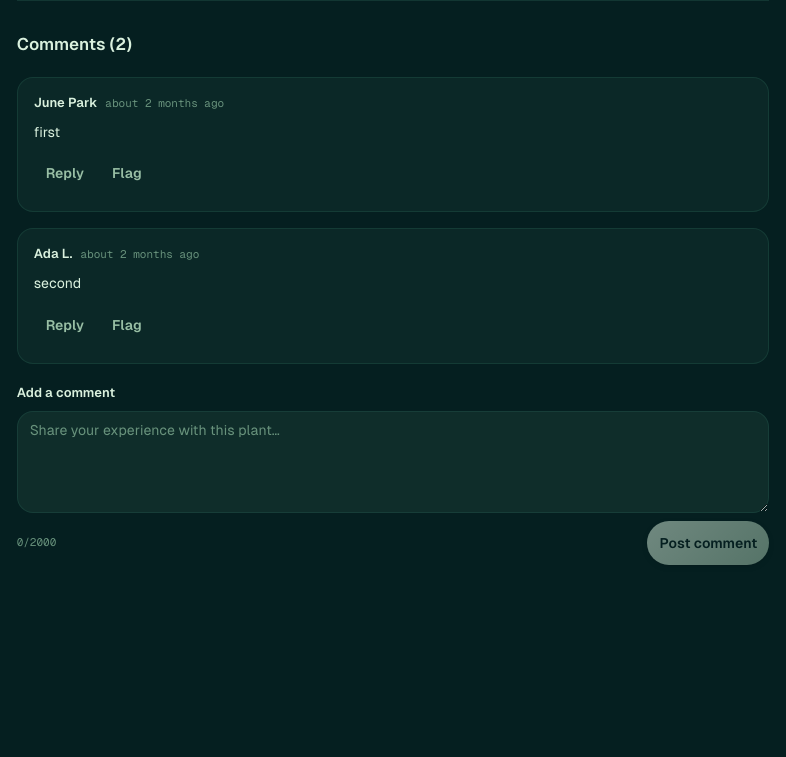
Scenario: BlogCommentSection (todo 352) › reply flow: one composer at a time, POSTs the parent, nests the reply, and a 400 parent error shows its message
The image size is (786, 757).
Click the button "Reply" below "June Park" at (65, 173), box 34,151 -> 96,195
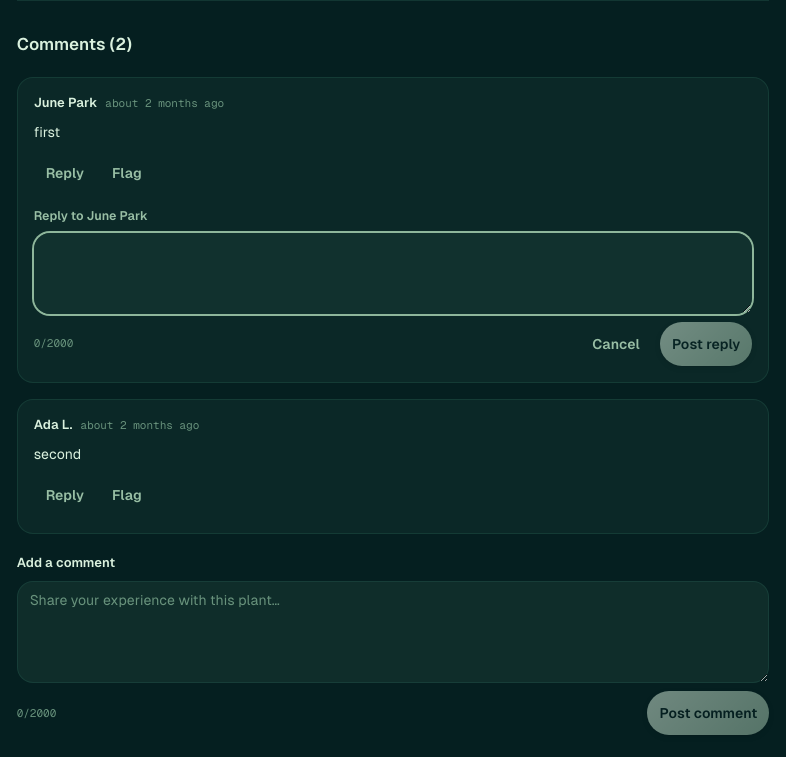
Check: the text box labelled "Reply to June Park" is shown, box 34,233 -> 752,314
# Opening the second closes the first — exactly one reply composer.
Click the button "Reply" below "Ada L." at (65, 496), box 34,474 -> 96,518
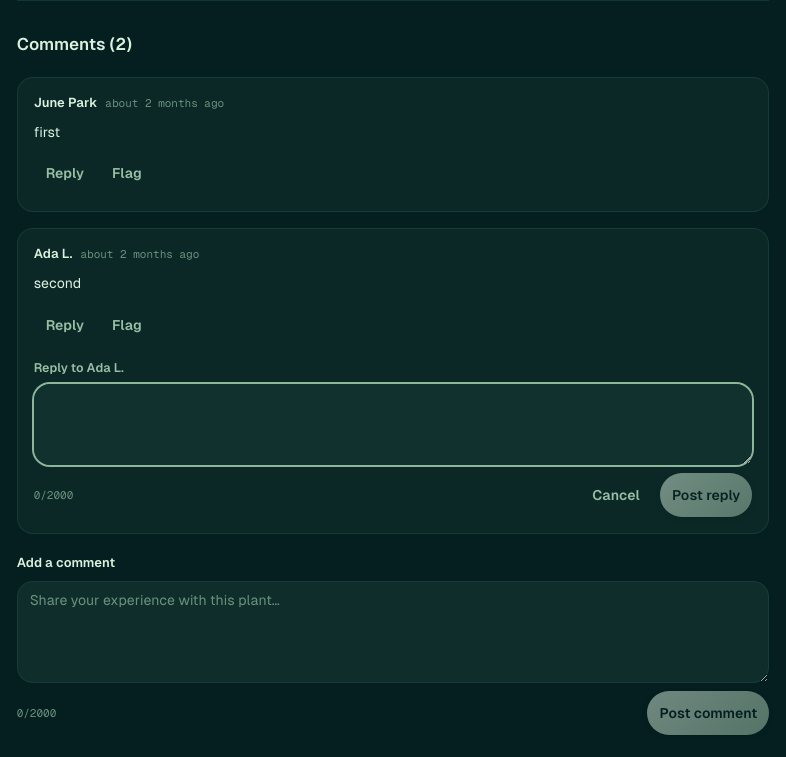
Check: the number of text boxes is 2
Check: the label labelled "Reply to June Park" is gone
Type "nope" into the text box labelled "Reply to Ada L." at (393, 425), box 34,384 -> 752,466
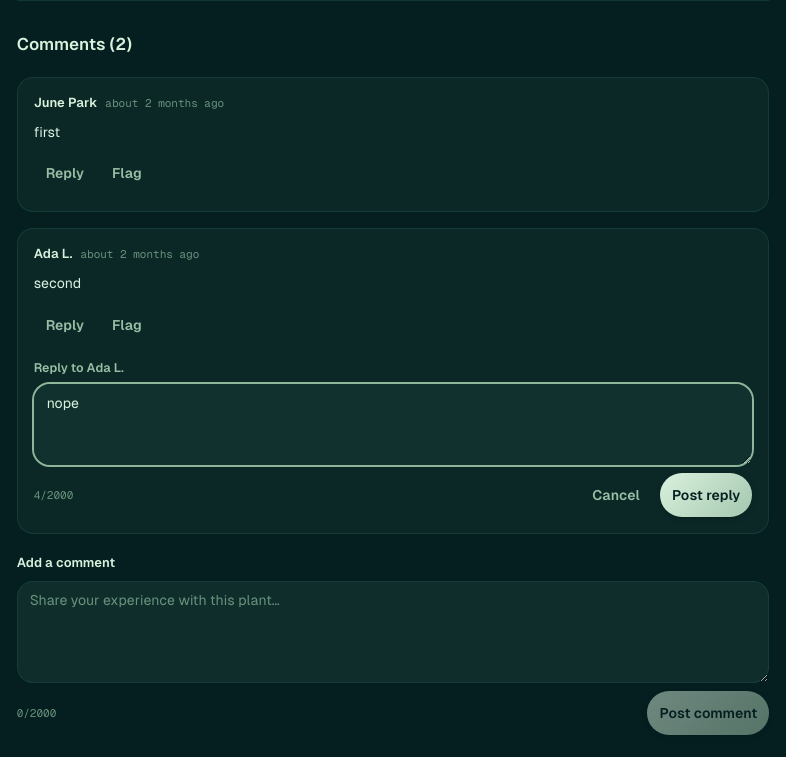
Click the button "Post reply" at (706, 496), box 660,474 -> 752,518
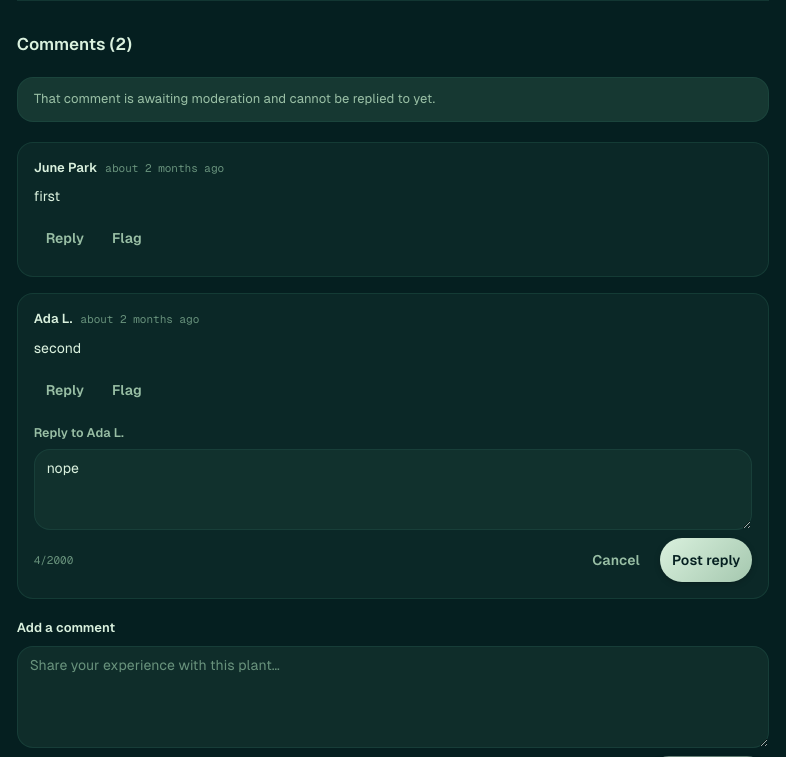
Check: the text with test id "blog-comments-notice" does not show "parent:", box 17,77 -> 769,122
Check: the text with test id "blog-comments-notice" reads "That comment is awaiting moderation and cannot be replied to yet.", box 34,91 -> 435,106
Click the button "Post reply" at (706, 560), box 660,538 -> 752,582
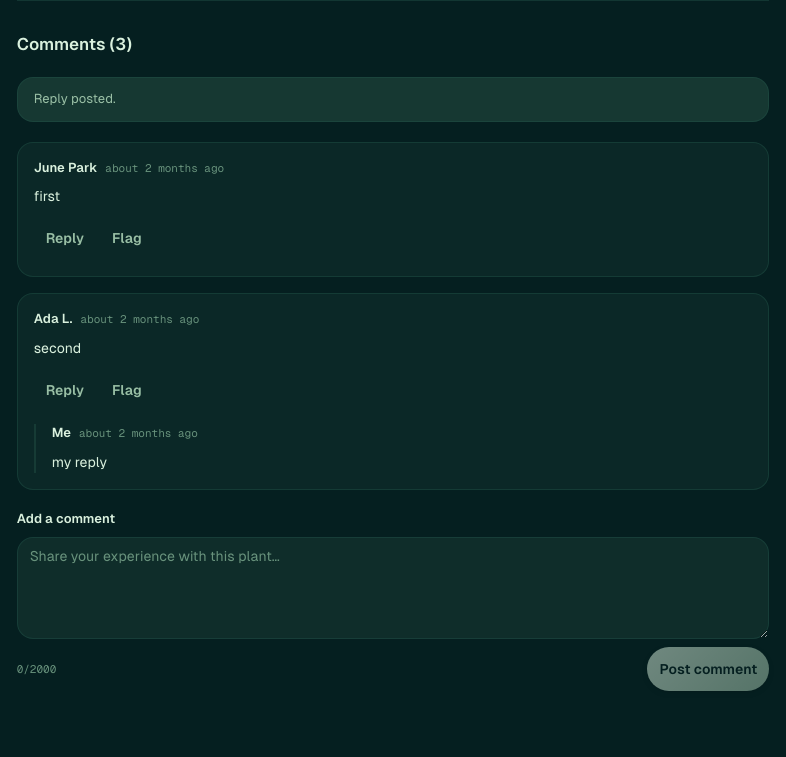
Check: the text "my reply" is shown, box 52,454 -> 107,470
Check: the label labelled "Reply to Ada L." is gone
Check: the text with test id "blog-comments-notice" reads "Reply posted.", box 34,91 -> 116,106
